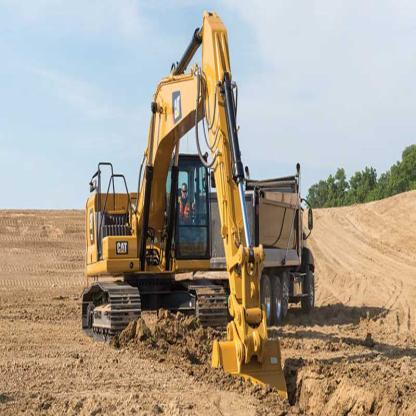excavator: (42, 2, 310, 415)
